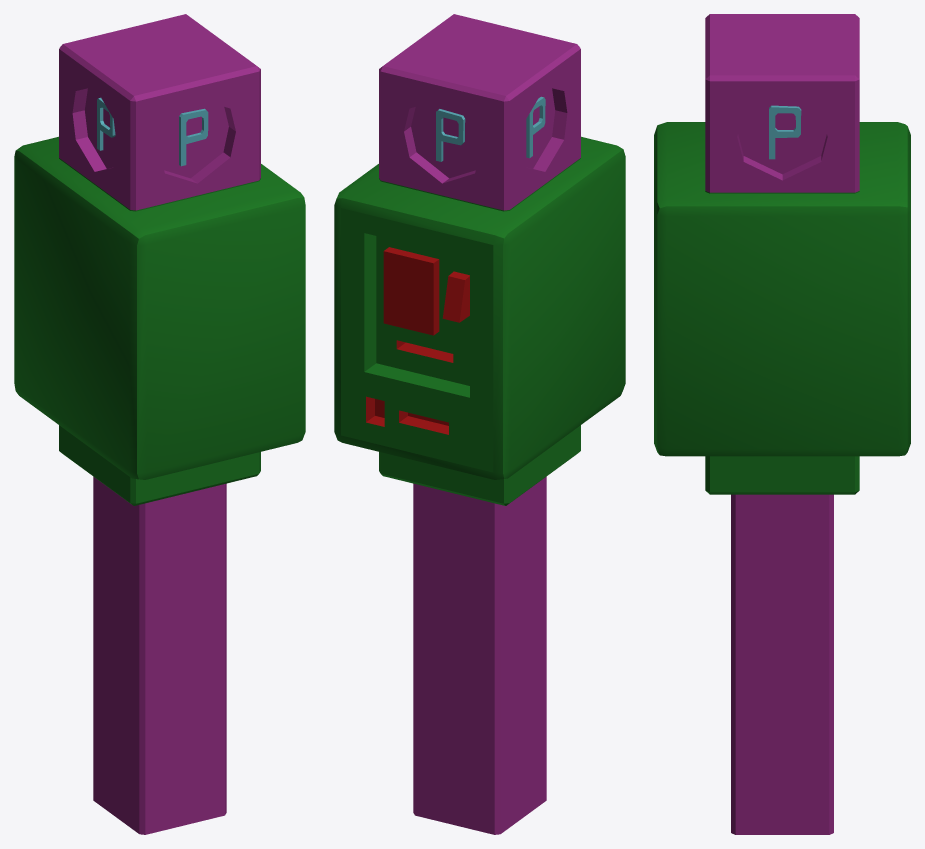
Rendered from Parkeermeter.FBX.
The picture shows the model from 3 angles, left to right: view 1: azimuth 30°, elevation 25°; view 2: azimuth 150°, elevation 25°; view 3: azimuth 270°, elevation 25°; orthographic projection. The views are drawn at different scales.
Visible parts, largest first — view 1: Box003; view 2: Box003; view 3: Box003.
Boxes of the visible parts, left/top/right/bottom form: Box003: left=14, top=14, right=305, bottom=834; Box003: left=334, top=14, right=625, bottom=834; Box003: left=654, top=14, right=910, bottom=834.
Size of the model in its own units: 17.73 by 73.13 by 22.16.
